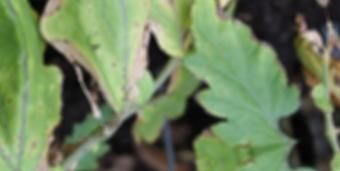Tomato Early blight leaf: (163, 0, 311, 165), (32, 0, 200, 135), (0, 27, 92, 171)
